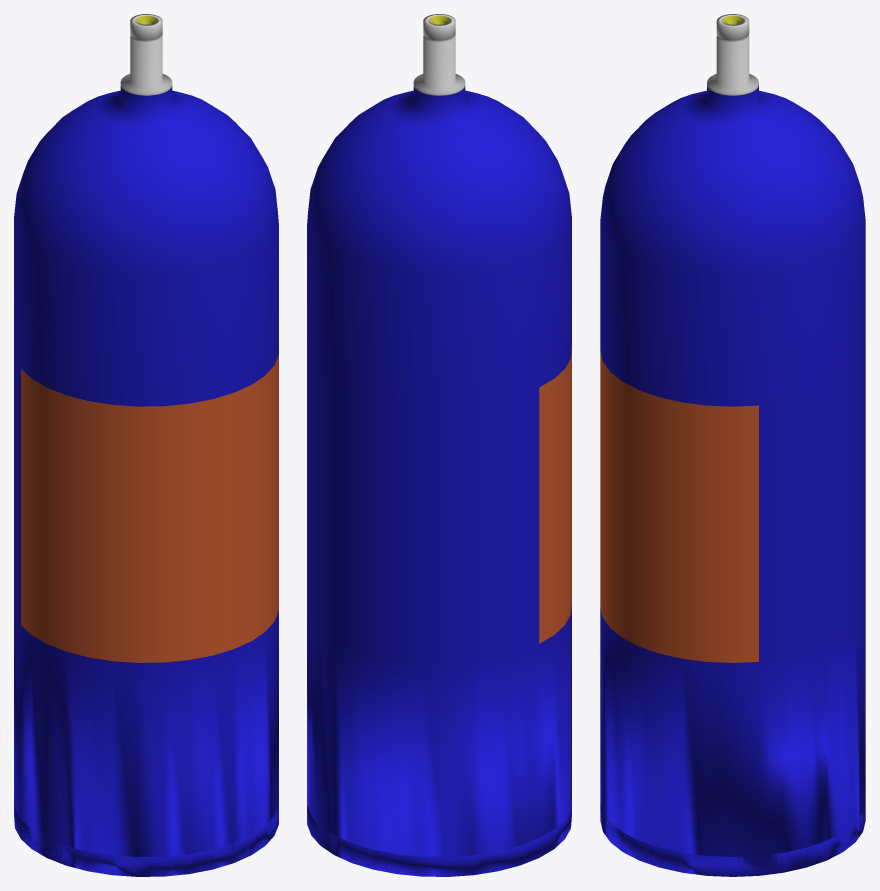
The picture shows the model from 3 angles, left to right: view 1: azimuth 30°, elevation 25°; view 2: azimuth 150°, elevation 25°; view 3: azimuth 270°, elevation 25°; orthographic projection.
Visible parts, largest first — view 1: Cylinder; view 2: Cylinder; view 3: Cylinder.
Boxes of the visible parts, left/top/right/bottom form: Cylinder: left=14, top=14, right=278, bottom=876; Cylinder: left=307, top=14, right=571, bottom=876; Cylinder: left=600, top=14, right=865, bottom=876.
Size of the model in its own units: 20 by 66.61 by 20.
